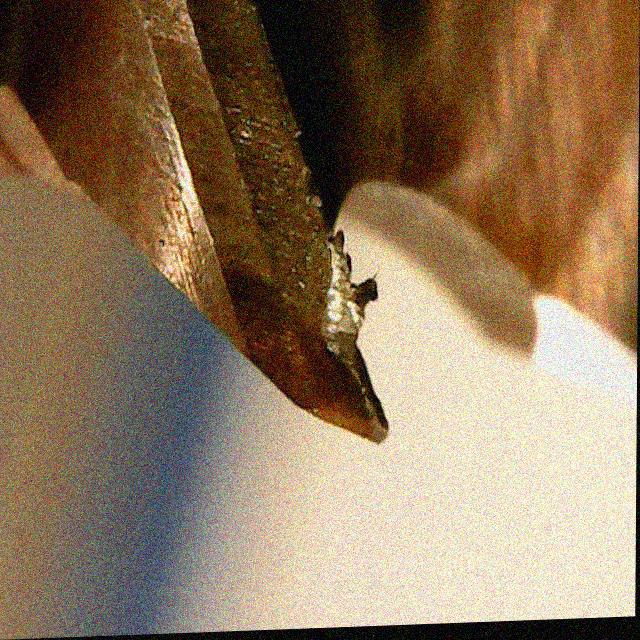Tool-wear-class-2: (208, 210, 399, 456)
